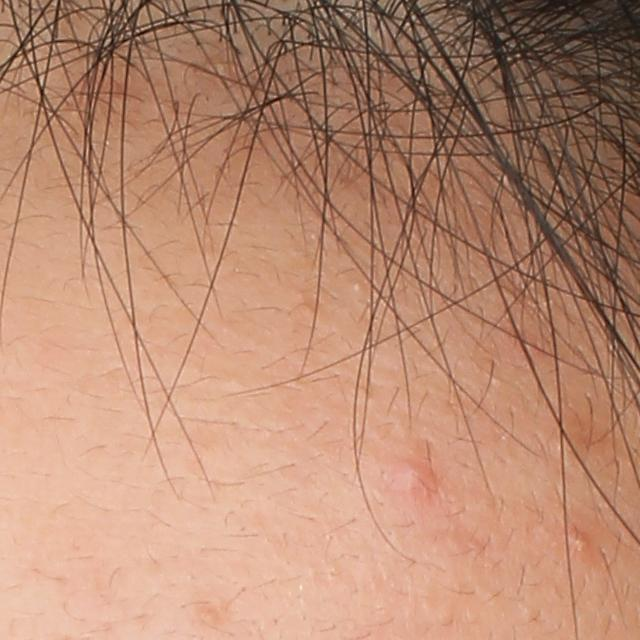papule: (382, 458, 435, 498), (558, 527, 596, 562)
